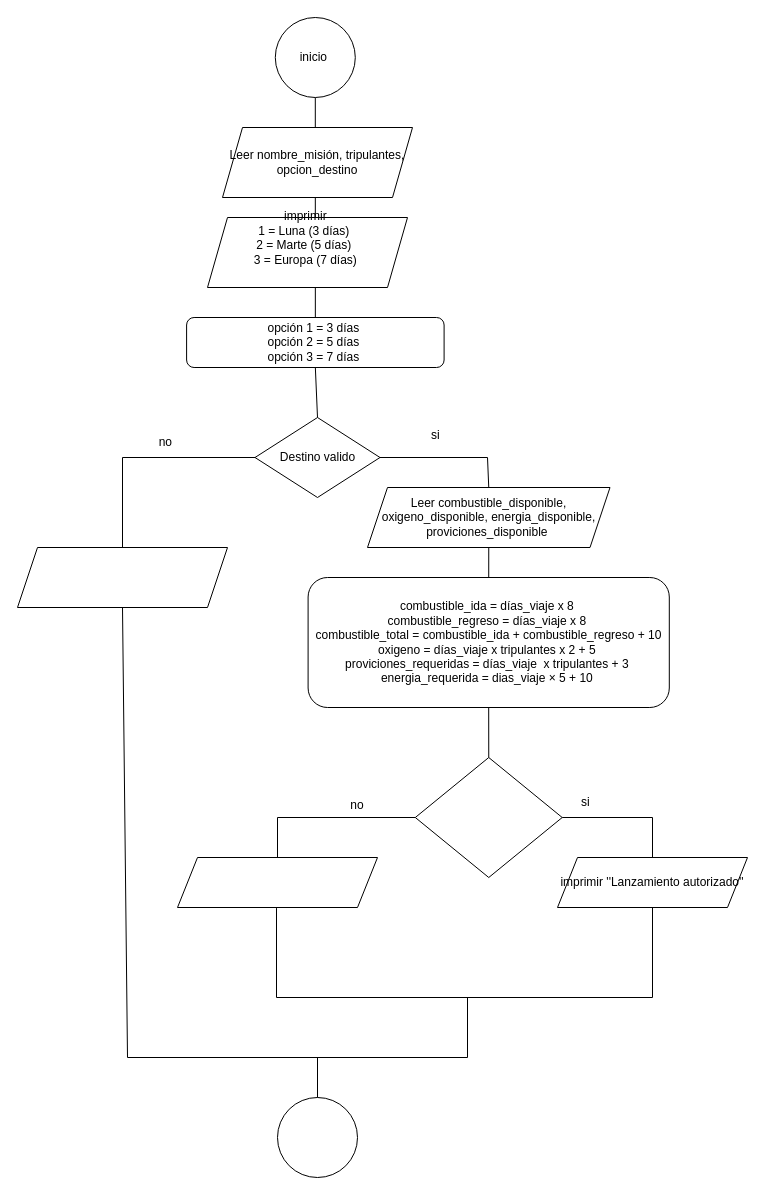
The diagram is 765 pixels wide and 1195 high, and some of its shapes have lost their labels. Here are the shapes that lost their labels. From the top down, the box of each, then its label:
(16, 546, 228, 608): imprimir " Opción de destino no válida. La misión no puede planificarse."
(414, 756, 562, 878): Todos los recursos disponibles son sufucientes para la misión
(176, 856, 378, 908): imprimir ''Lanzamiento no autorizado. La misión debe de ser revisada''
(276, 1096, 358, 1178): fin
